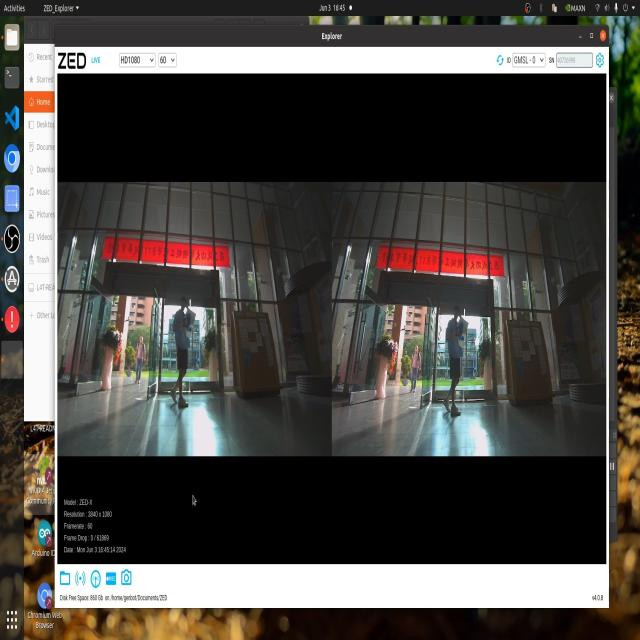blue: (184, 310, 198, 342), (460, 319, 467, 348)
